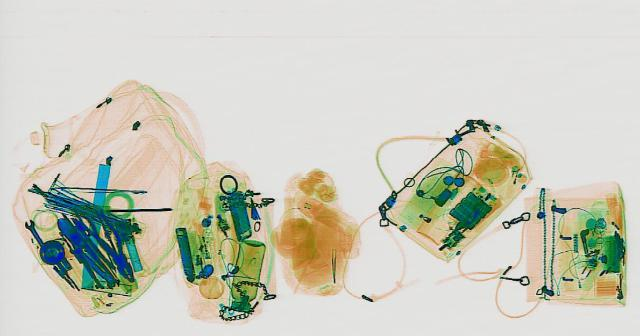Pliers: (78, 210, 146, 283)
Wrench: (18, 217, 72, 274)
